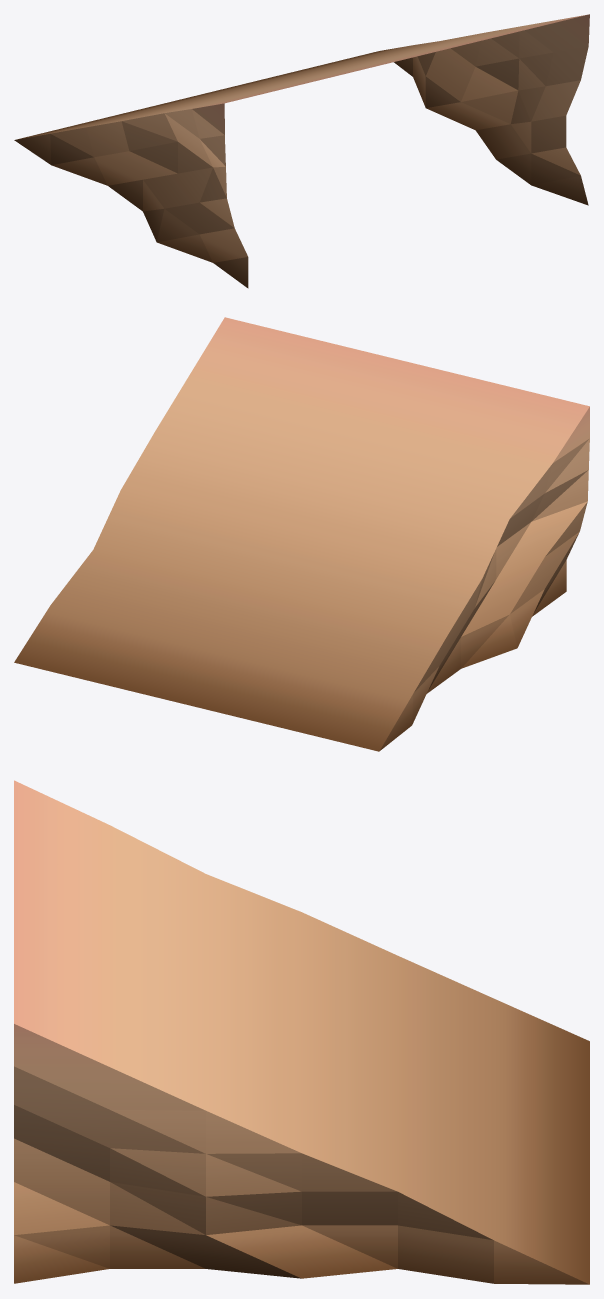
Rendered from frontHalfRamp4.001.fbx.
3 views of the same model, one above another, from view 1: azimuth 30°, elevation 25°; view 2: azimuth 150°, elevation 25°; view 3: azimuth 270°, elevation 25° (orthographic). The views are drawn at different scales.
Visible parts, largest first — view 1: frontHalfRamp4.001; view 2: frontHalfRamp4.001; view 3: frontHalfRamp4.001.
Boxes of the visible parts, x1,y1,x2,y2 form: frontHalfRamp4.001: [14, 14, 589, 288]; frontHalfRamp4.001: [14, 317, 589, 751]; frontHalfRamp4.001: [14, 780, 589, 1284].
Bounding box in the file's own units: 100 × 50 × 100.
